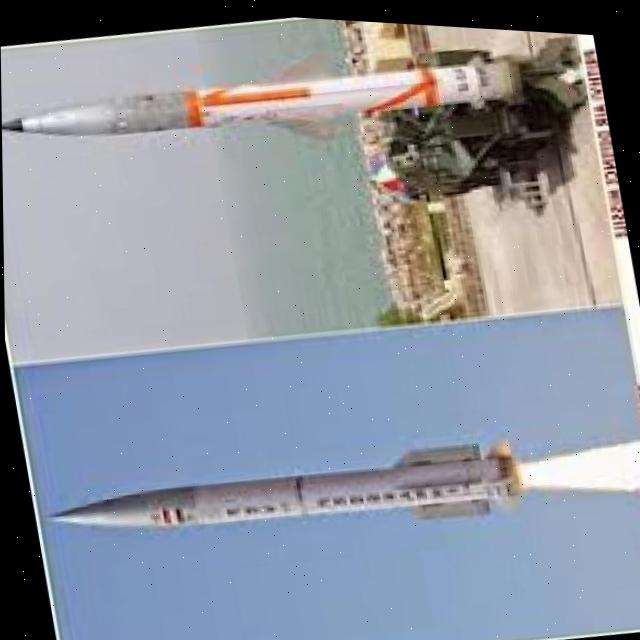missile: (0, 6, 579, 183), (47, 408, 528, 578)
